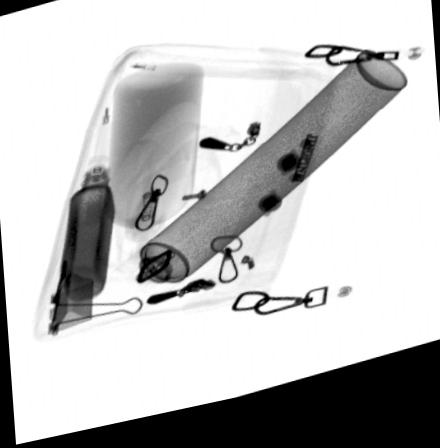Sprayer: (103, 62, 408, 320)
